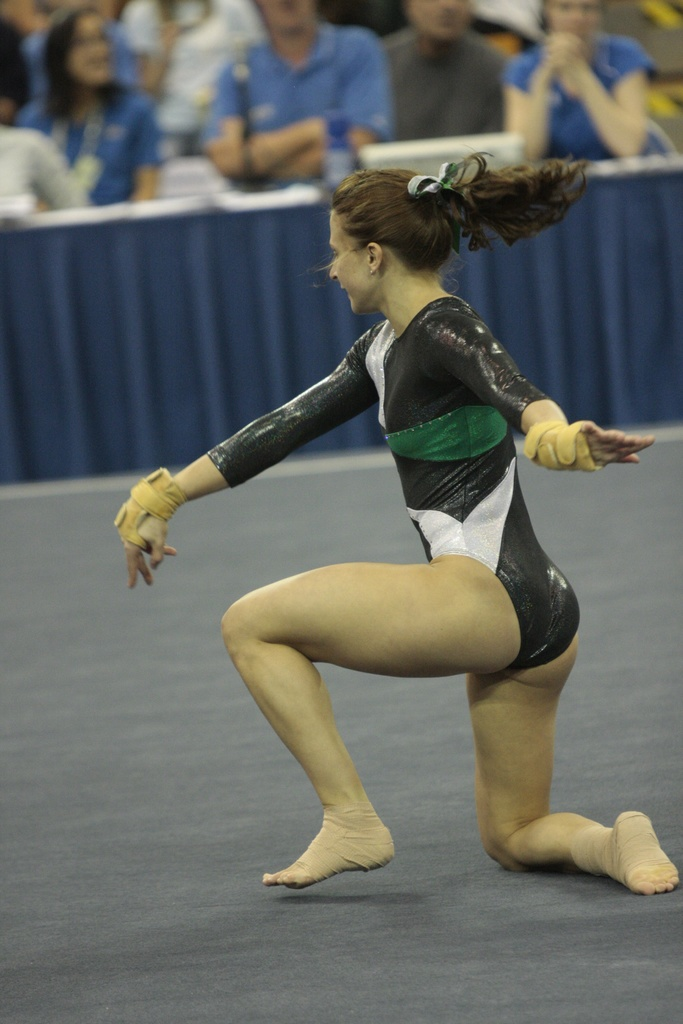Person: (0, 0, 660, 222)
